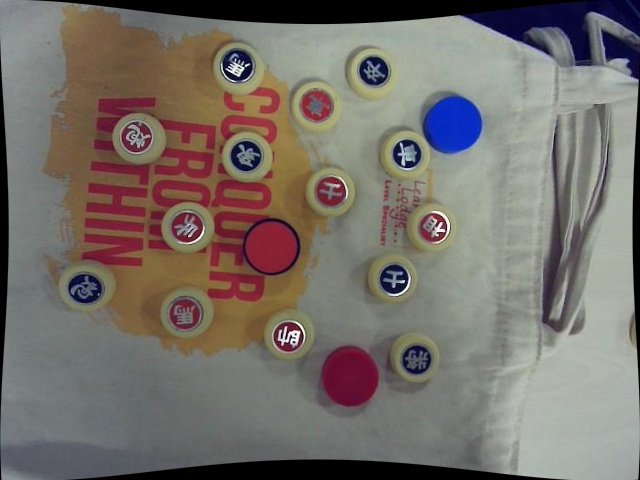Black-Cannon: (65, 270, 103, 303)
Black-Chariot: (391, 137, 426, 172)
Black-Elephant: (229, 138, 264, 173)
Black-General: (396, 343, 439, 380)
Black-Guard: (376, 261, 412, 298)
Black-Horse: (217, 46, 261, 85)
Black-Soldier: (356, 53, 392, 87)
Red-Cannon: (121, 122, 157, 156)
Red-Chariot: (300, 86, 335, 124)
Red-Elephant: (417, 210, 450, 245)
Red-General: (272, 319, 306, 354)
Red-Guard: (316, 173, 347, 212)
Red-Horse: (168, 295, 206, 332)
Red-Soldier: (169, 209, 204, 246)
